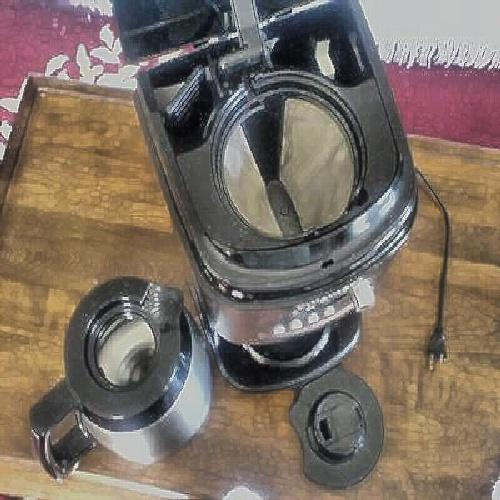coffee_maker: (73, 30, 459, 468)
